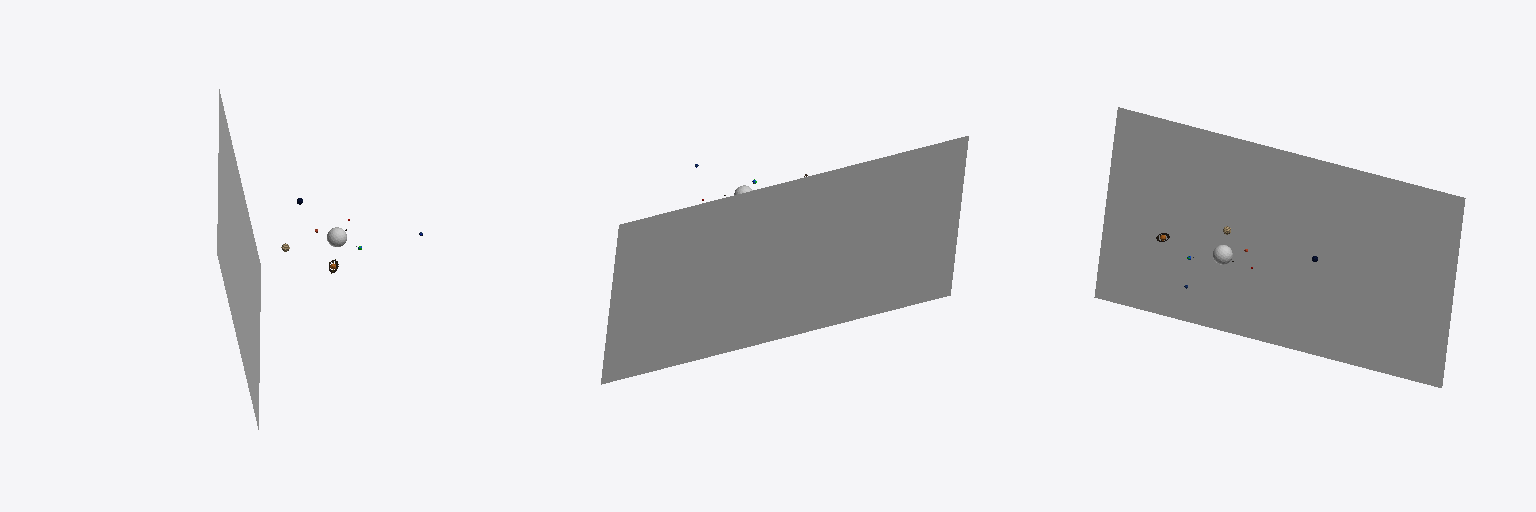
Rendered from Space.obj.
3 renders of one model, left to right at view 1: azimuth 30°, elevation 25°; view 2: azimuth 150°, elevation 25°; view 3: azimuth 270°, elevation 25°, orthographic.
Visible parts, largest first — view 1: Space; view 2: Space; view 3: Space.
Part boxes in pixels (x1,y1,x2,y2): Space: (217, 89, 260, 429); Space: (601, 136, 968, 384); Space: (1094, 107, 1465, 387).
Size of the model in its own units: 130 by 93.46 by 174.